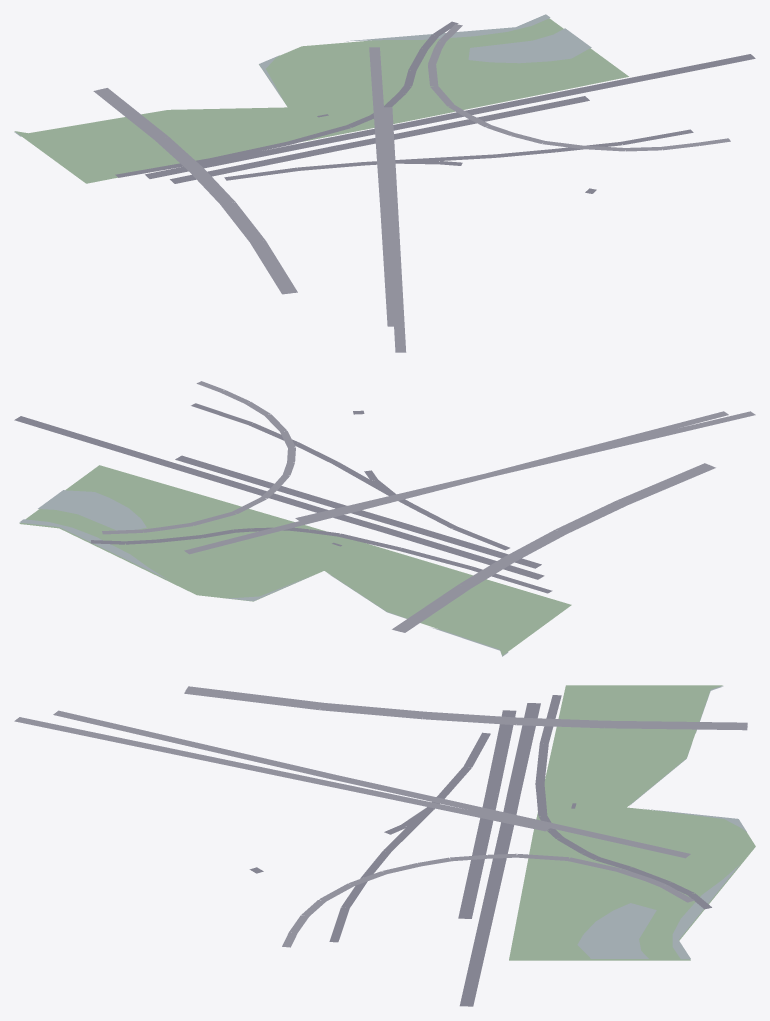
The model's file is 133_81_mid.glb.
3 renders of one model, top to bottom at view 1: azimuth 30°, elevation 25°; view 2: azimuth 150°, elevation 25°; view 3: azimuth 270°, elevation 25°, orthographic. The views are drawn at different scales.
Bounding box in the file's own units: 602 × 12.04 × 569.
